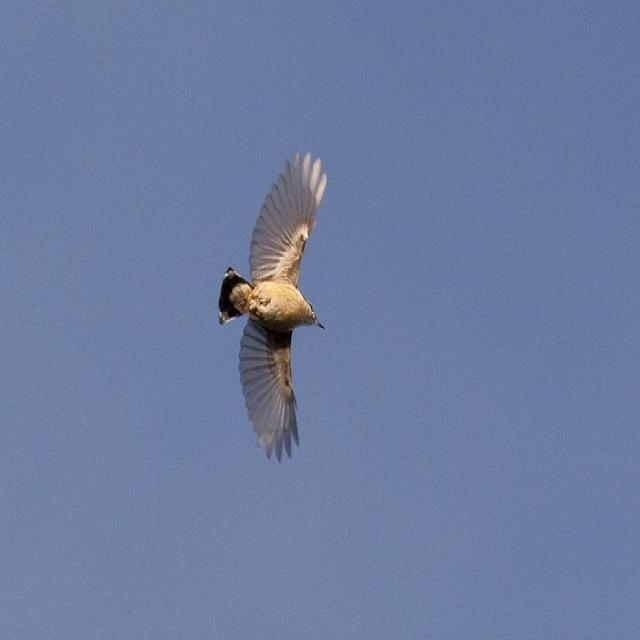bird: (215, 142, 338, 464)
